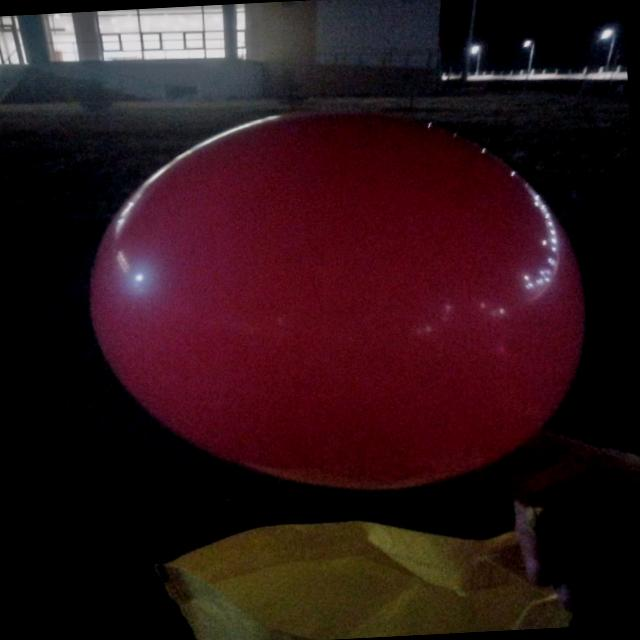balloon: (91, 112, 585, 490), (386, 271, 389, 274)
